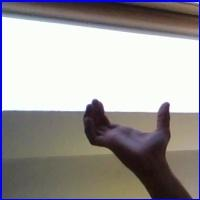space: (76, 92, 182, 168)
